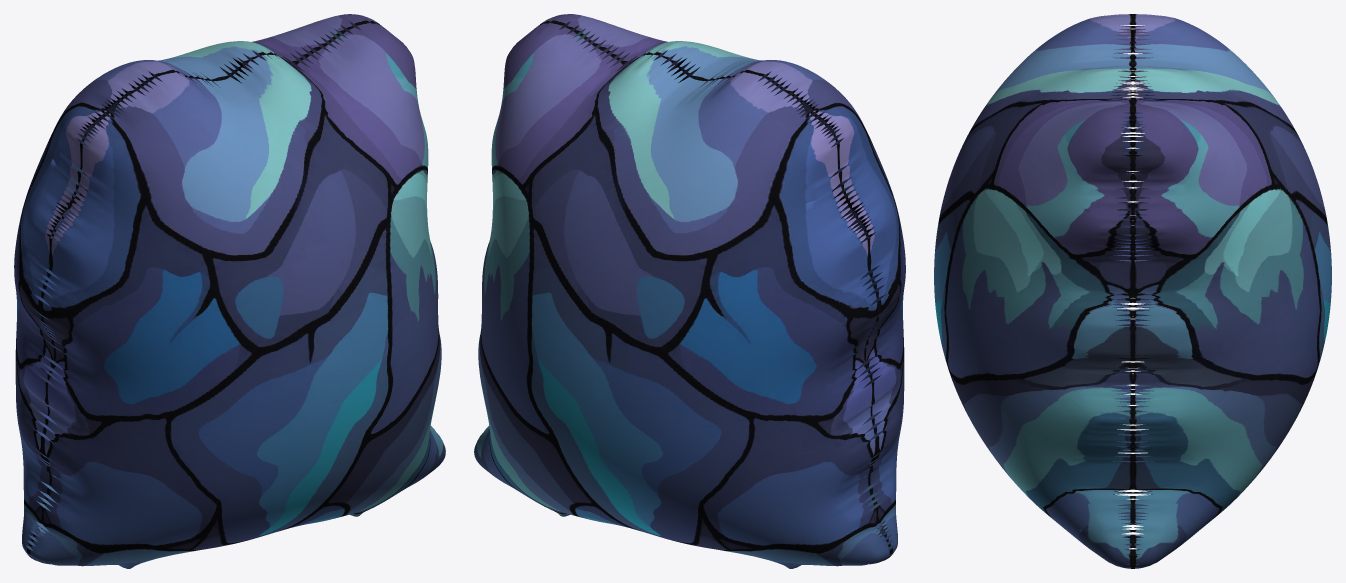
Rendered from slate_cliff.glb.
3 renders of one model, left to right at view 1: azimuth 30°, elevation 25°; view 2: azimuth 150°, elevation 25°; view 3: azimuth 270°, elevation 25°, orthographic. The views are drawn at different scales.
Parts seen in each view (by area): view 1: slate_cliff; view 2: slate_cliff; view 3: slate_cliff.
Boxes of the visible parts, x1,y1,x2,y2 form: slate_cliff: (14, 14, 445, 568); slate_cliff: (474, 14, 905, 568); slate_cliff: (934, 14, 1331, 568).
Size of the model in its own units: 0.988 by 1.07 by 0.8791.
Materials: 1 (1 with a texture image).
